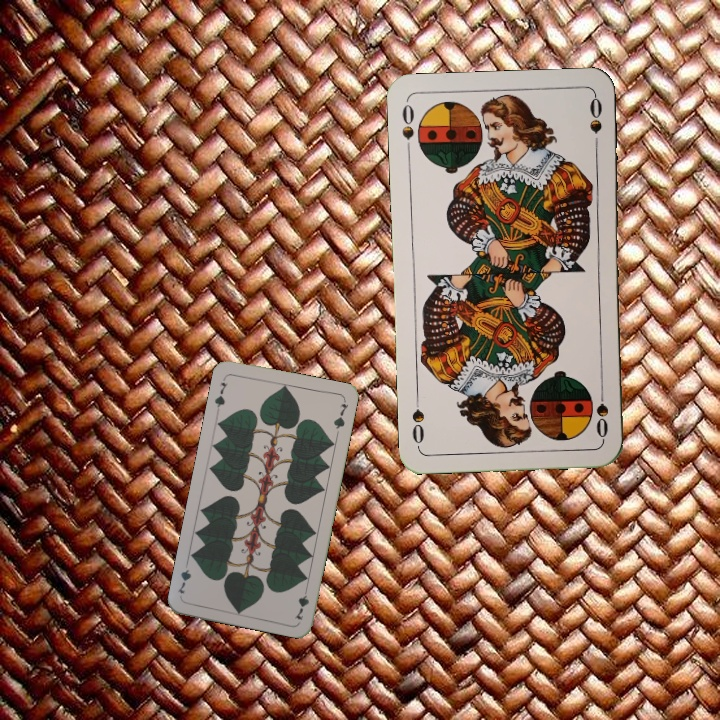G7: (291, 582, 311, 622), (210, 374, 230, 414)
SO: (592, 382, 611, 441), (398, 100, 417, 158)
